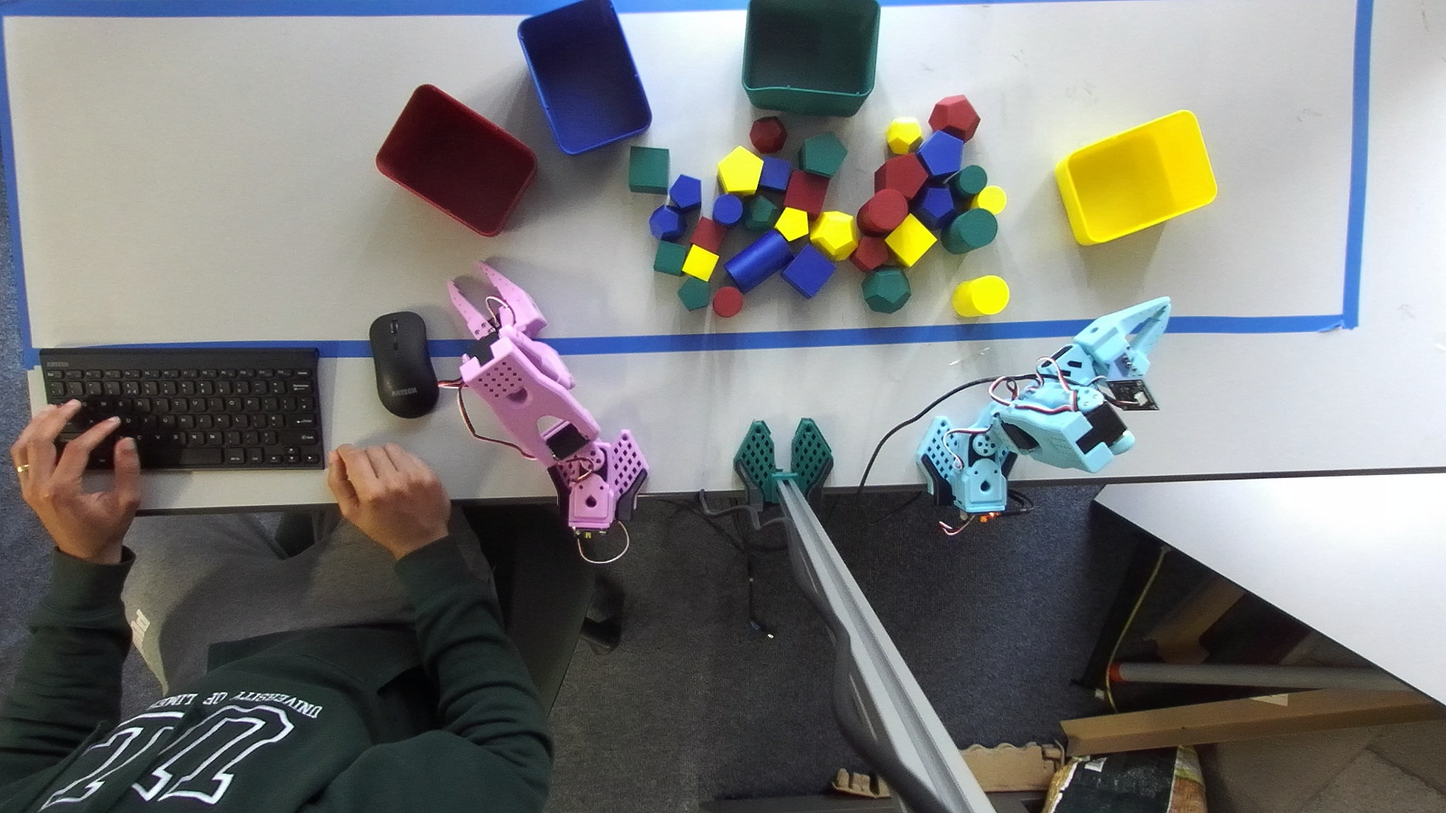bin: (376, 84, 537, 236), (1055, 110, 1216, 244), (517, 0, 651, 154), (742, 0, 880, 115)
cube: (782, 245, 834, 297), (885, 214, 936, 266), (783, 169, 828, 217), (628, 146, 669, 194), (691, 217, 726, 253), (682, 245, 718, 280), (653, 241, 688, 276), (758, 157, 791, 192)
cylinder: (725, 230, 792, 292), (943, 208, 997, 253), (857, 189, 908, 236), (950, 276, 1008, 316), (950, 165, 987, 197), (712, 193, 743, 226), (972, 185, 1005, 215), (712, 286, 743, 317)
dodecahedron: (810, 211, 859, 260), (862, 267, 911, 313), (929, 95, 979, 140), (910, 186, 954, 233), (749, 117, 787, 154), (886, 117, 922, 154), (649, 205, 685, 241), (746, 193, 780, 230)
gripper: (1073, 296, 1170, 378), (448, 262, 546, 340)
hexagonal: (916, 130, 963, 180), (874, 154, 927, 198), (798, 132, 847, 176), (718, 147, 762, 194), (849, 235, 889, 272), (669, 175, 701, 210), (678, 276, 710, 310), (776, 207, 808, 241)
